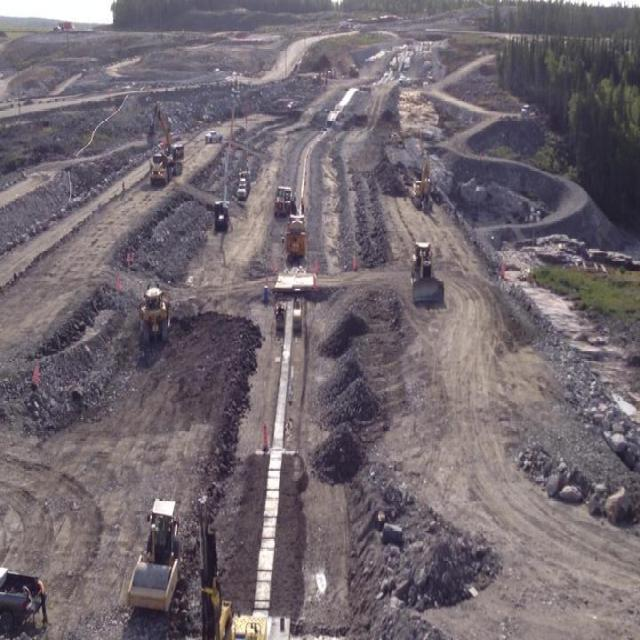dump_truck: (284, 213, 308, 259), (148, 152, 174, 186), (234, 165, 250, 198)
excavator: (144, 98, 182, 171), (409, 154, 433, 212)
